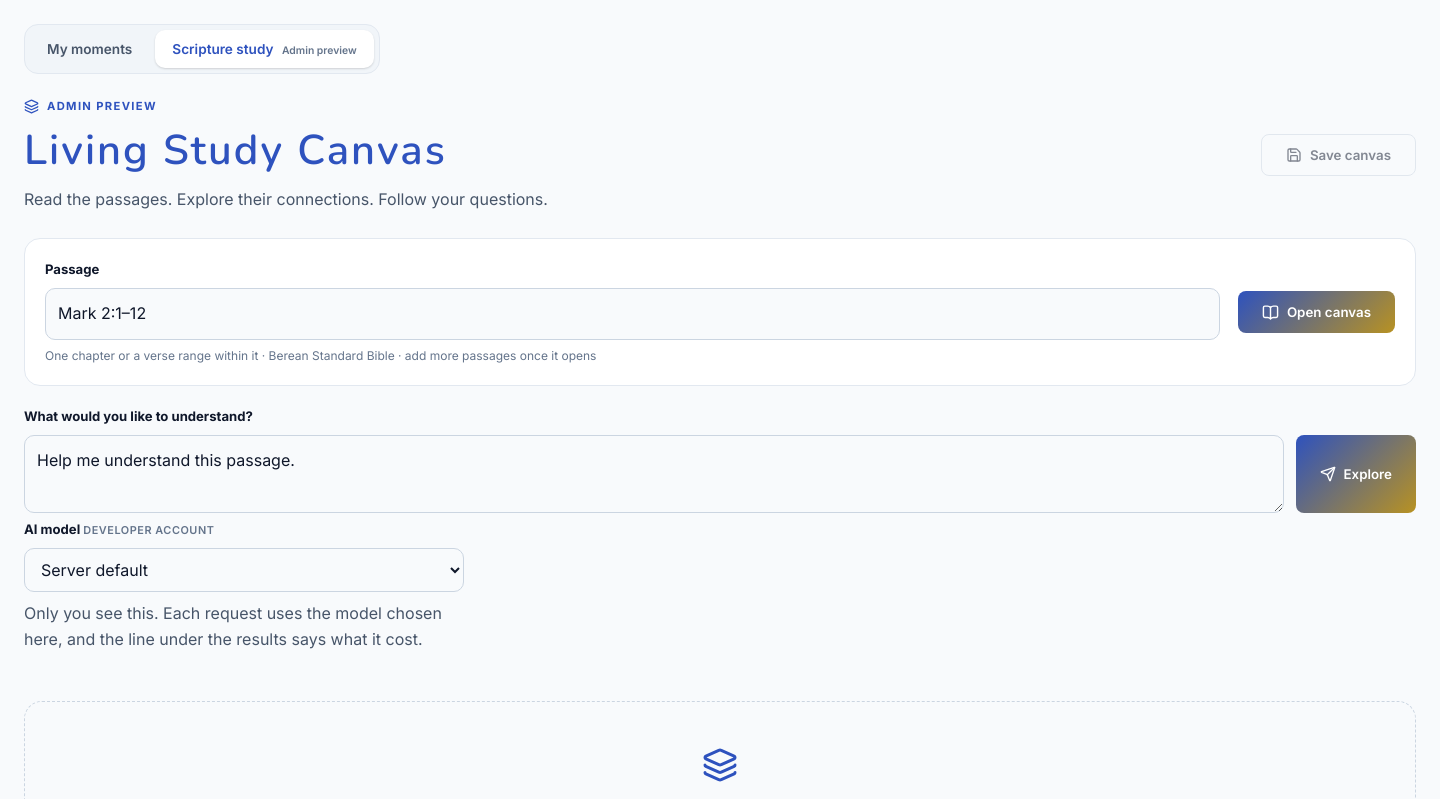
Test: Living Study Canvas › lets a developer pick the model for the study preview and shows what the run cost; nobody else sees the picker
Select "Claude Sonnet 5.5" in the dropdown labelled "AI model developer account". click: (244, 570)
box: [24,548,464,592]
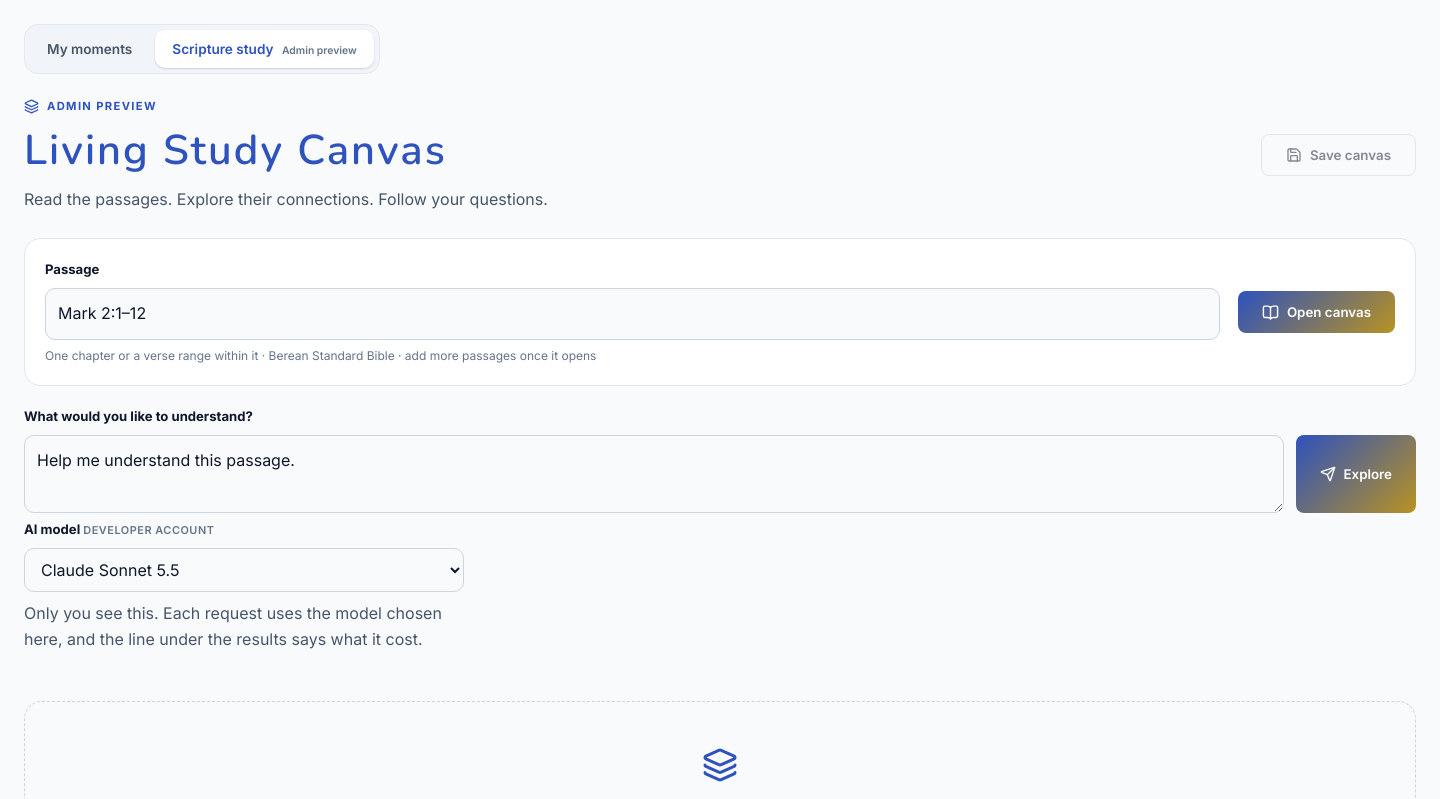
Click the button "Open canvas". click: (1316, 312)
box: [1238,291,1395,333]
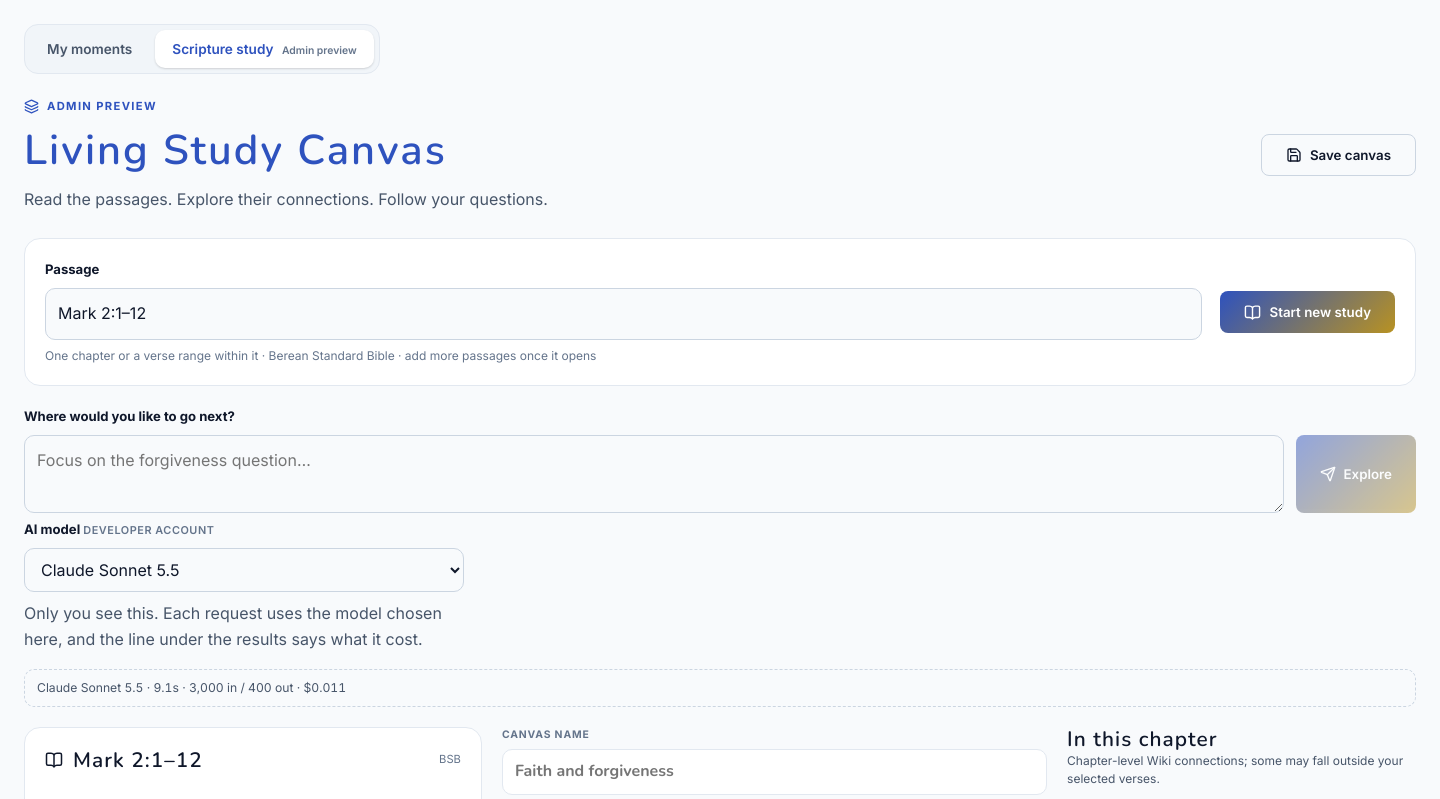
expect the message named "Model used for these results" reads "Claude Sonnet 5.5 · 9.1s · 3,000 in / 400 out · $0.011": met, box [37,680,346,695]
